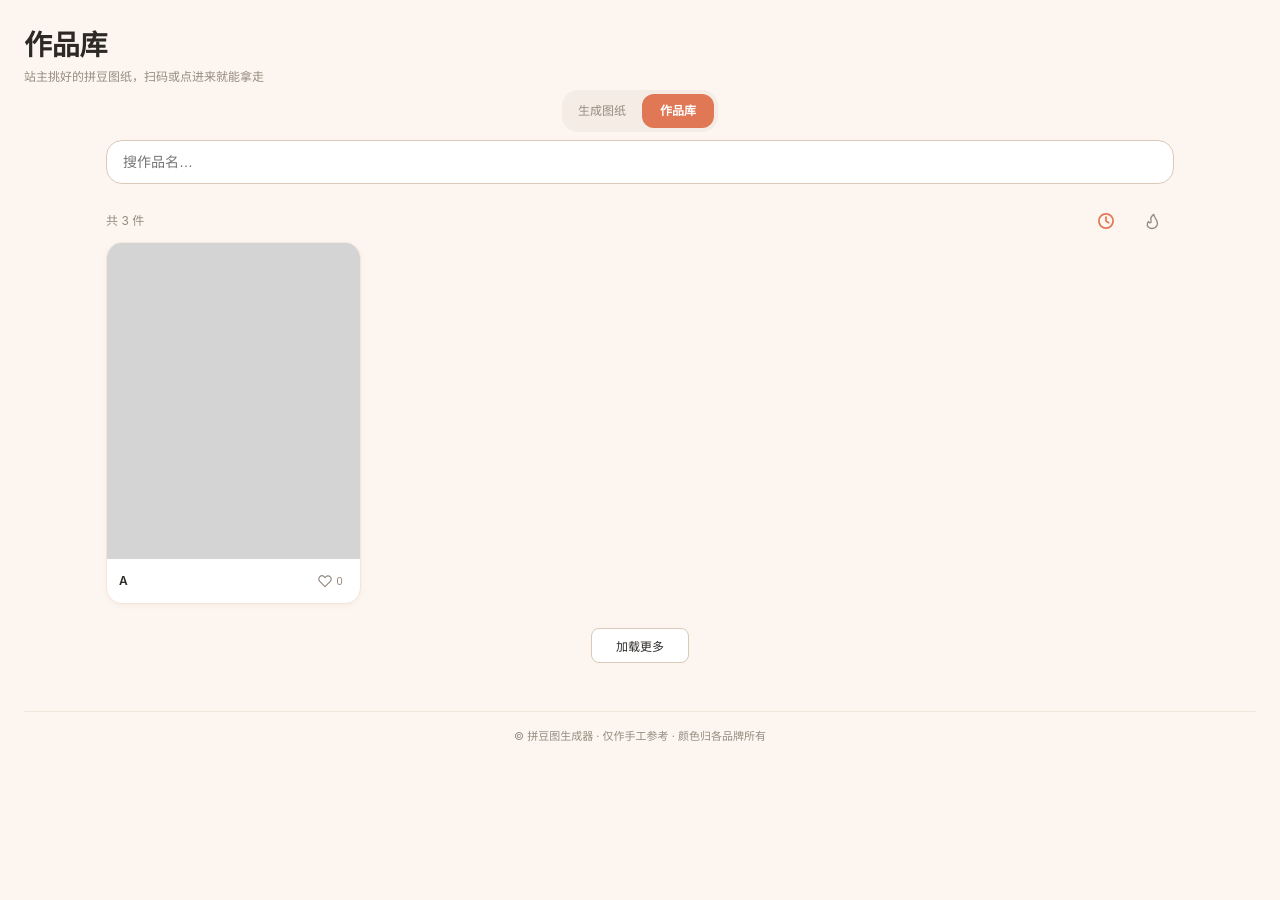
Test: WorksListPage › 「加载更多」失败只提示，不顶掉已加载的列表
Expected: the text "A" is shown, [119,573,128,588]
Click the button "加载更多" at (640, 646), box [591,628,689,663]
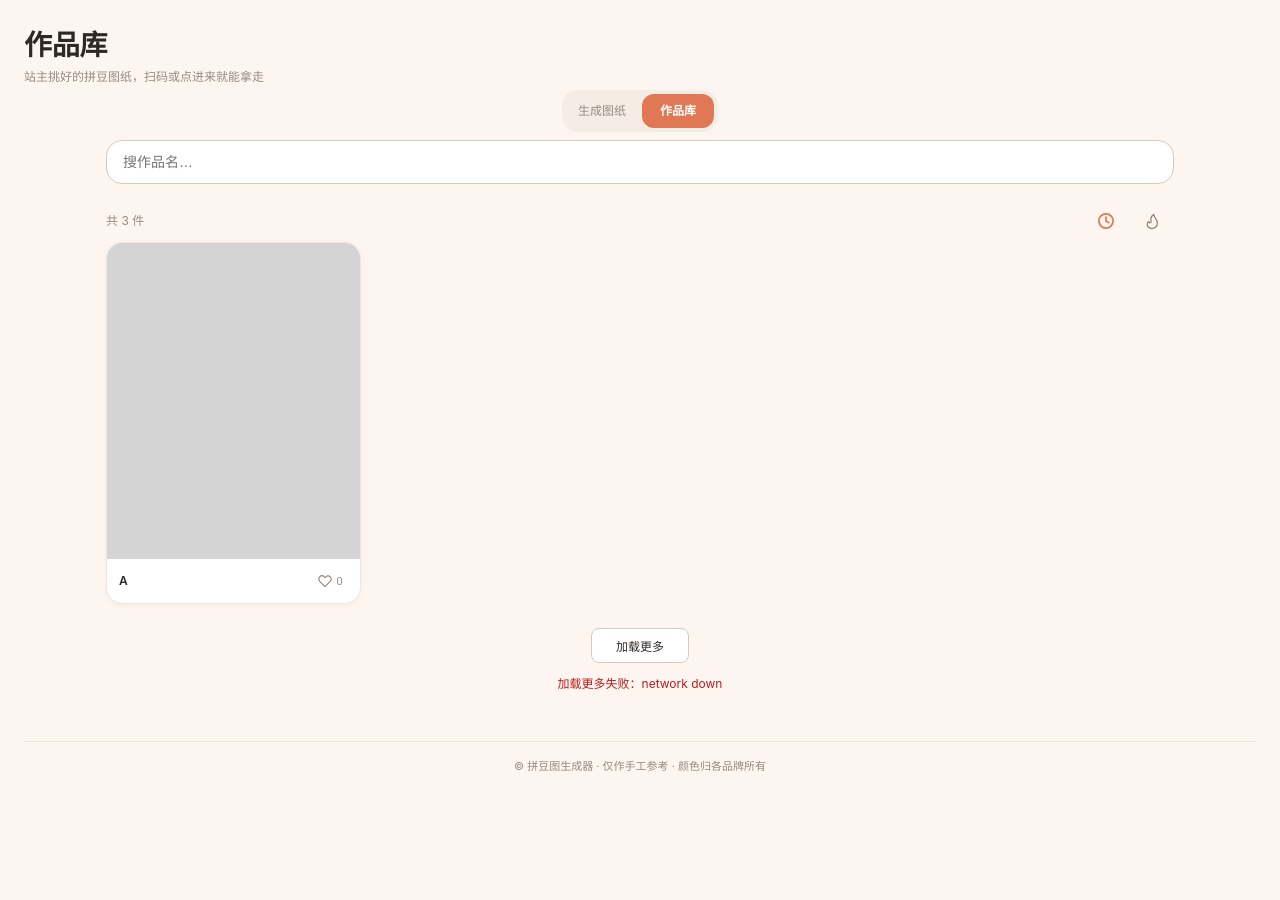
Expected: the text "A" is shown, [119,573,128,588]
Result: the text "加载更多失败：network down" is shown at [558,675,722,693]
